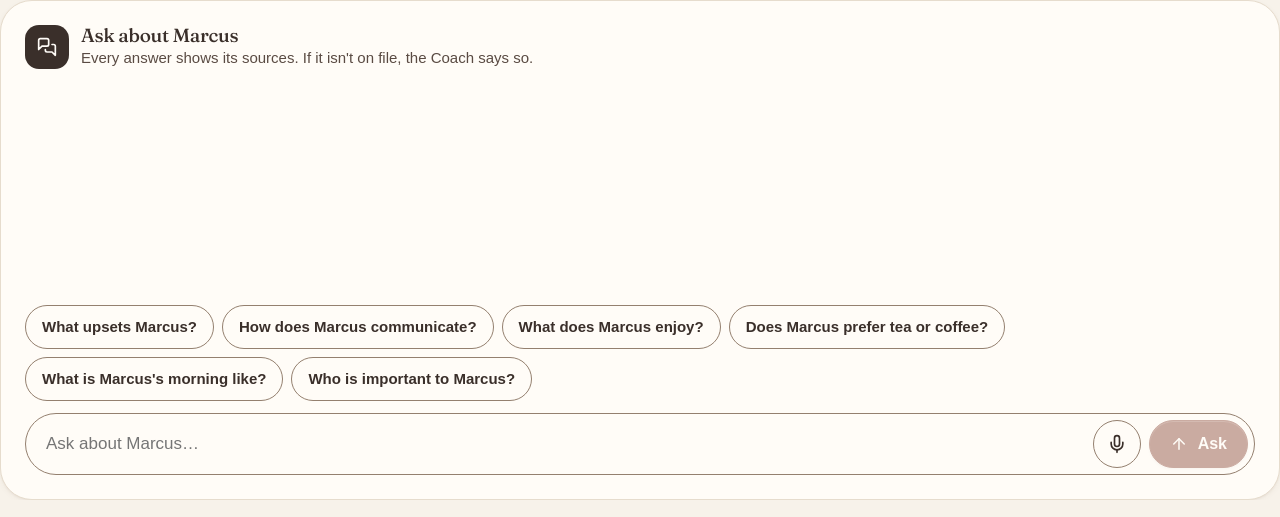
Scenario: T4.6 frontend — Coach › Coach labels an inferred tea pattern 'Pattern noticed'
Step 1. Type "What does Marcus drink in the morning?" into the field named "ask a question" → (558,444), box [32, 420, 1085, 468]
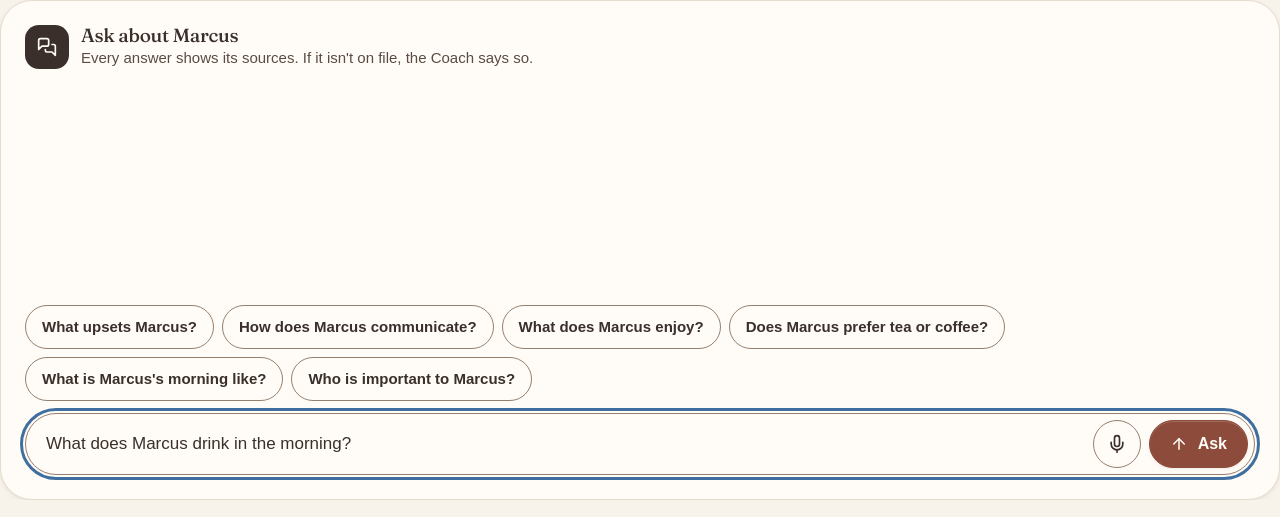
Step 2. Click the button "Ask" → (1198,444), box [1149, 420, 1248, 468]
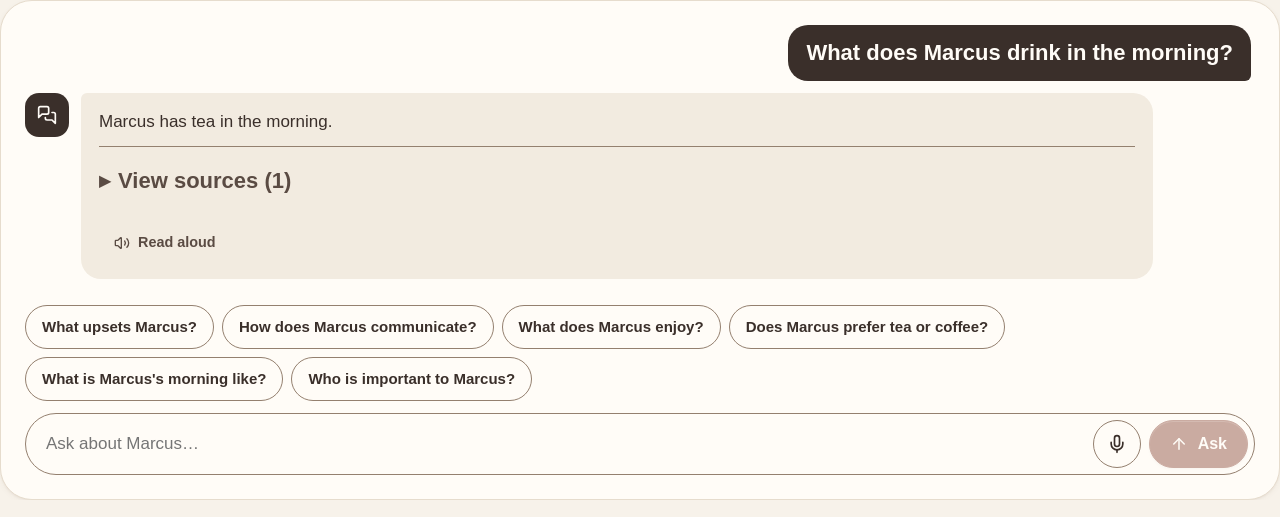
Expected: the text "Marcus has tea in the morning." is shown, [99, 112, 332, 131]
